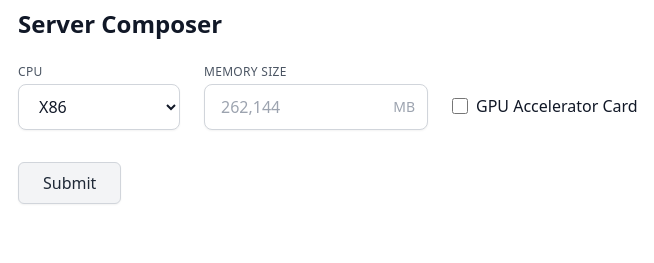
ServerComposer › shows a validation error and no output for a non power of two
This screenshot has width=654, height=263.
Type "3,072" into the field labelled "Memory Size" at coordinates (293, 107), box [205,85,381,129]
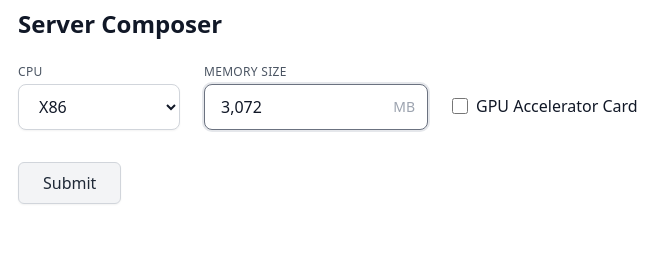
Click the button "Submit" at coordinates (70, 183), box [18,162,121,204]
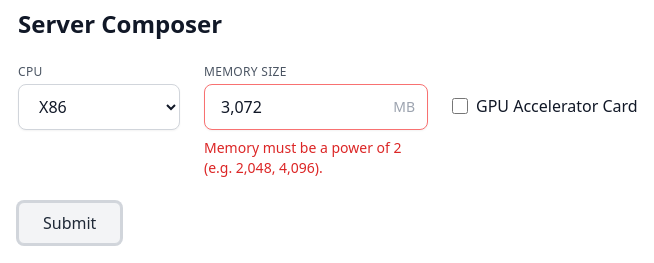
Now the text "Memory must be a power of 2 (e.g. 2,048, 4,096)." is shown, box [204,138,428,178]
